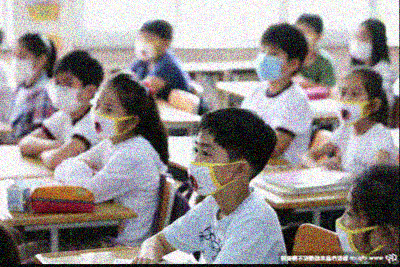with_mask: (334, 199, 370, 262), (186, 140, 221, 199), (334, 85, 366, 128), (87, 100, 119, 142), (47, 76, 79, 116), (253, 44, 284, 84), (347, 31, 373, 63), (9, 50, 34, 81), (132, 33, 156, 64)
